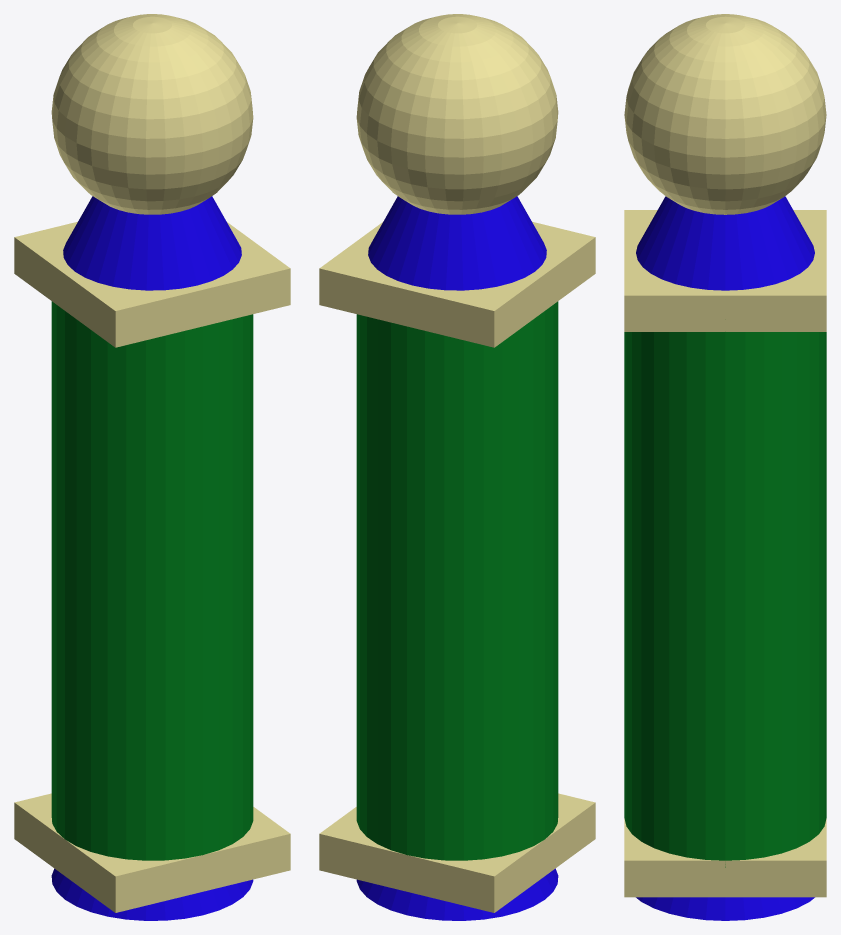
The picture shows the model from 3 angles, left to right: view 1: azimuth 30°, elevation 25°; view 2: azimuth 150°, elevation 25°; view 3: azimuth 270°, elevation 25°; orthographic projection.
Parts seen in each view (by area): view 1: Cube; view 2: Cube; view 3: Cube.
Part boxes in pixels (x1,y1,x2,y2): Cube: (14,14,290,920); Cube: (319,14,595,920); Cube: (624,14,826,920).
Bounding box in the file's own units: 1.04 × 4.85 × 1.04.
